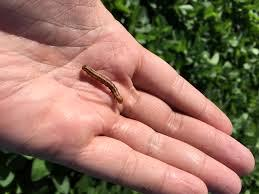Caterpillar: (82, 63, 123, 105)
